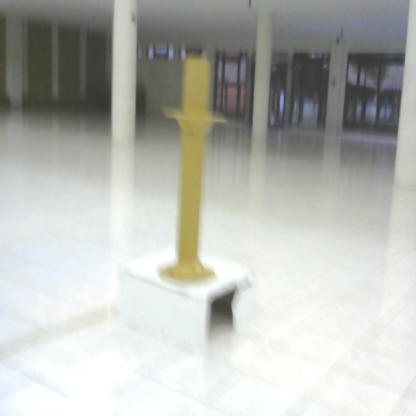pole: (158, 50, 235, 293)
